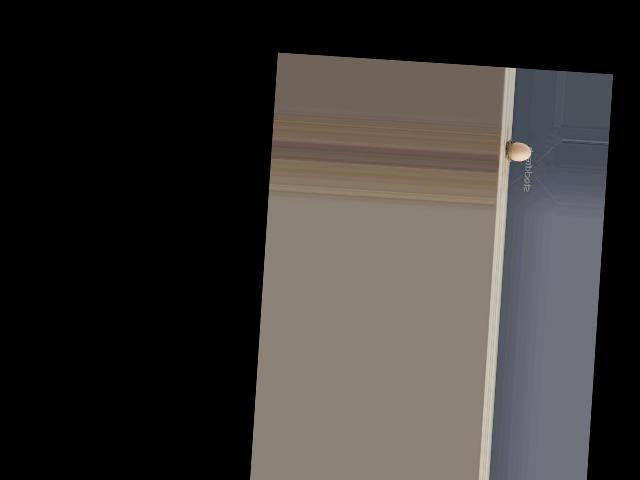egg: (509, 141, 531, 161)
